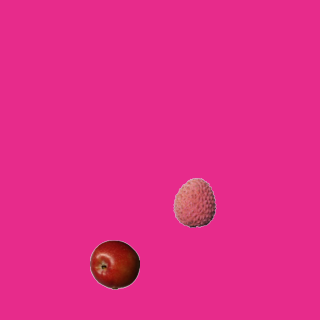Apple Braeburn: (89, 239, 139, 289)
Lychee: (169, 177, 219, 227)
